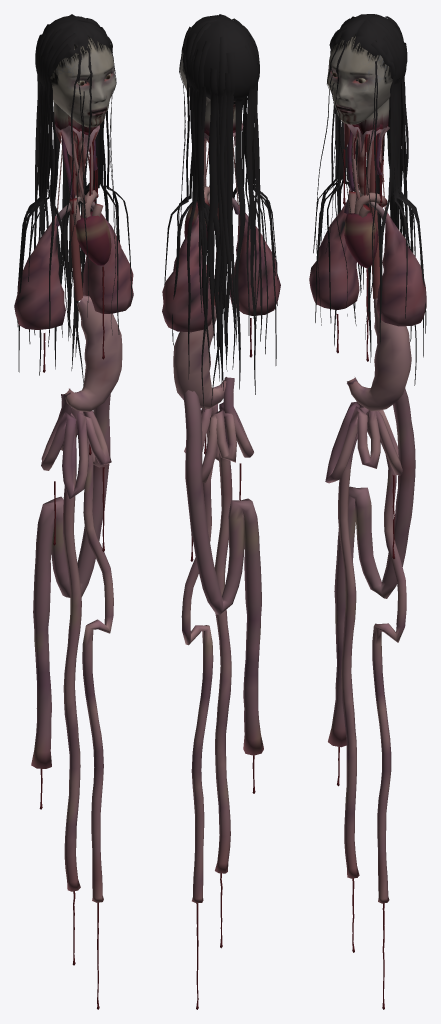
File: penanggal.glb
The picture shows the model from 3 angles, left to right: view 1: azimuth 30°, elevation 25°; view 2: azimuth 210°, elevation 25°; view 3: azimuth 330°, elevation 25°; orthographic projection.
Visible parts, largest first — view 1: Penanggal; view 2: Penanggal; view 3: Penanggal.
Part boxes in pixels (box(x1,y1,x2,y2)): Penanggal: box(14, 14, 133, 1009); Penanggal: box(162, 14, 280, 1009); Penanggal: box(309, 14, 426, 1009).
Bounding box in the file's own units: 0.2883 × 2.43 × 0.2222.
Materials: 4 (1 with a texture image).
